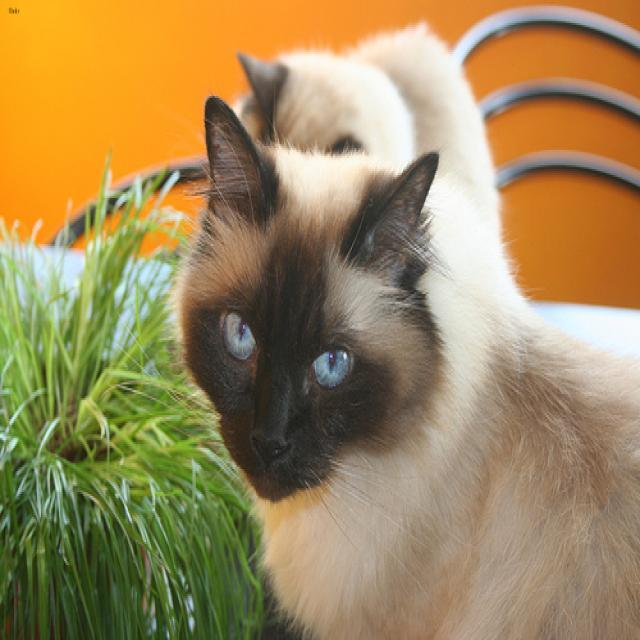Birman: (188, 97, 442, 513)
